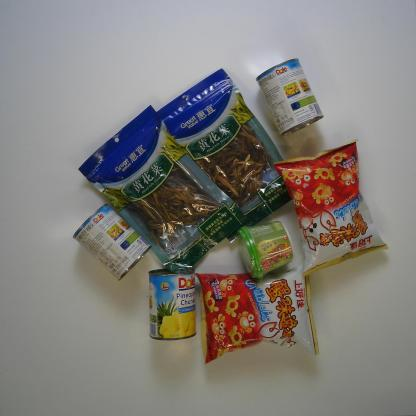Canned Food: (72, 203, 151, 282), (255, 57, 324, 138), (148, 267, 197, 341)
Dried Food: (78, 104, 248, 275), (153, 67, 297, 244)
Instant Drink: (236, 220, 295, 280)
Puffed Food: (272, 138, 388, 277), (194, 262, 320, 364)
